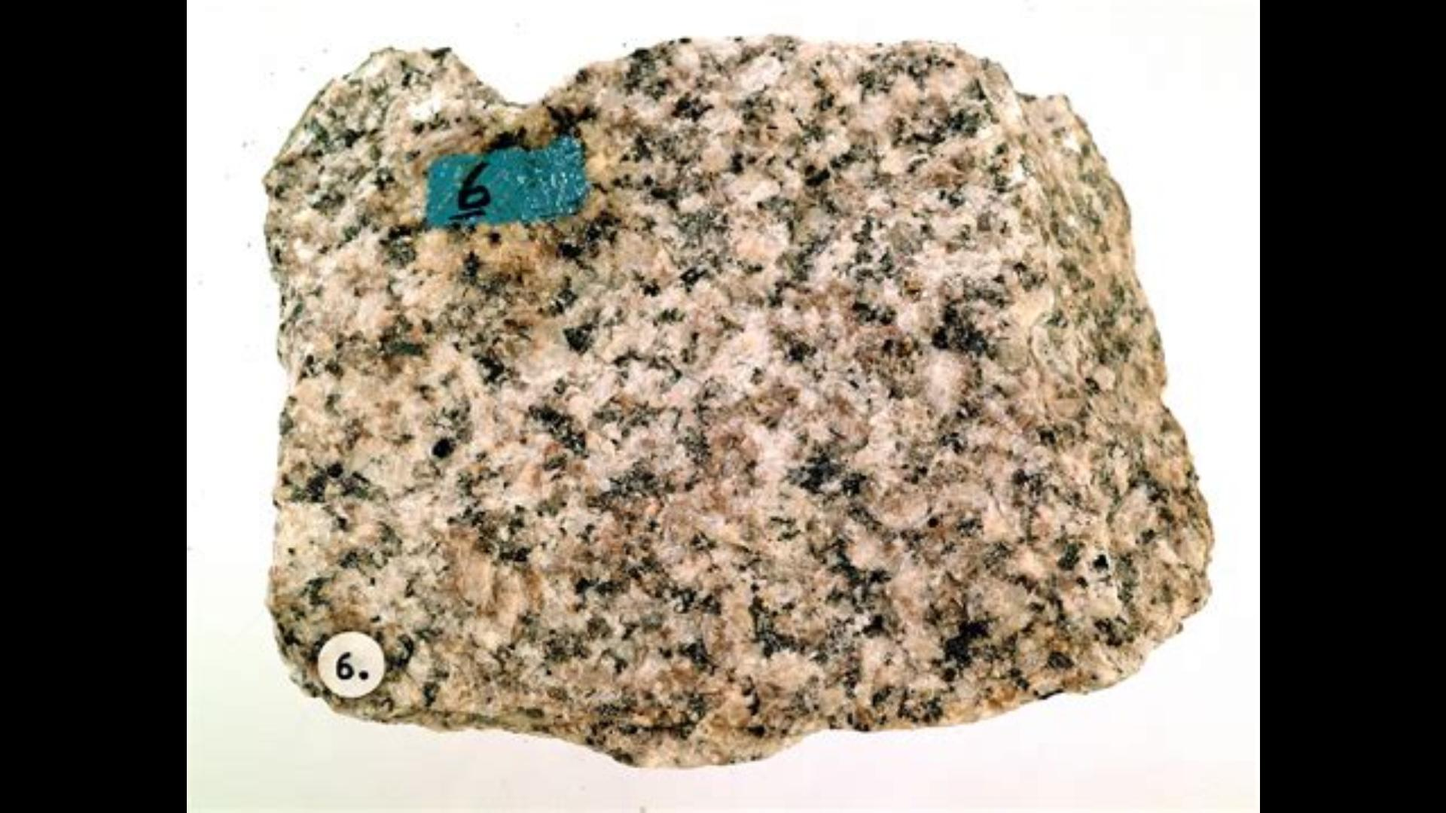rock: (265, 41, 1208, 761)
